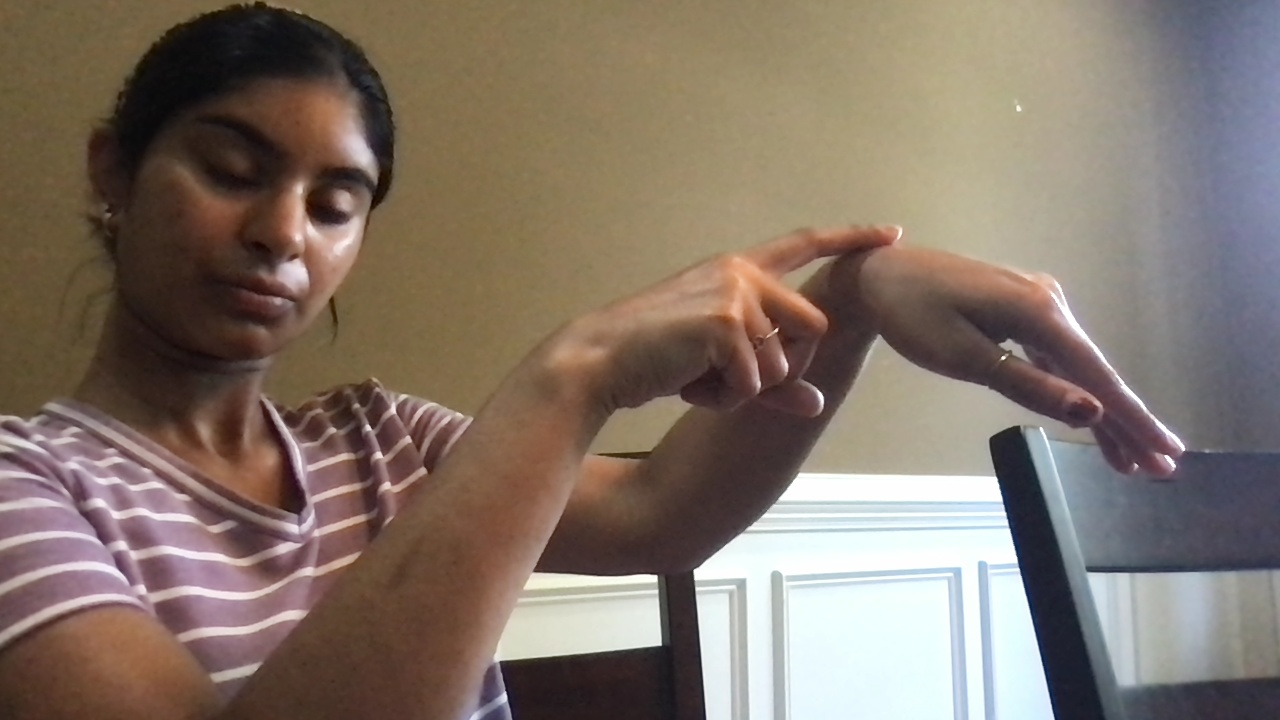Time: (521, 180, 1216, 493)
